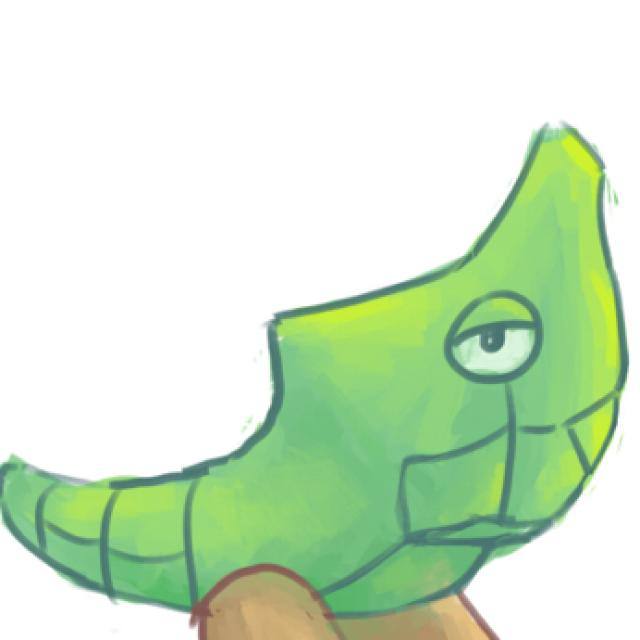Metapod: (0, 113, 640, 606)
